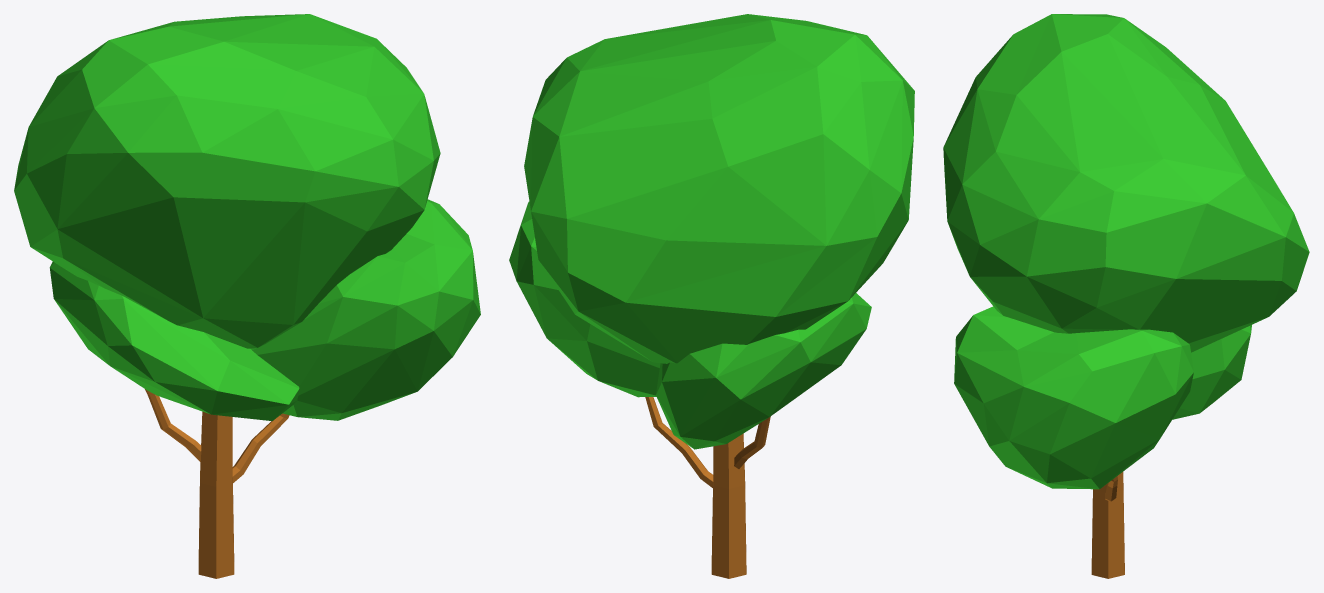
File: Tree5.fbx
The picture shows the model from 3 angles, left to right: view 1: azimuth 30°, elevation 25°; view 2: azimuth 150°, elevation 25°; view 3: azimuth 270°, elevation 25°; orthographic projection. The views are drawn at different scales.
Visible parts, largest first — view 1: Green Tree 4; view 2: Green Tree 4; view 3: Green Tree 4.
Boxes of the visible parts, <box> form: Green Tree 4: <box>14,14,480,578</box>; Green Tree 4: <box>509,14,914,578</box>; Green Tree 4: <box>943,14,1309,578</box>.
Bounding box in the file's own units: 448 × 543 × 696.
